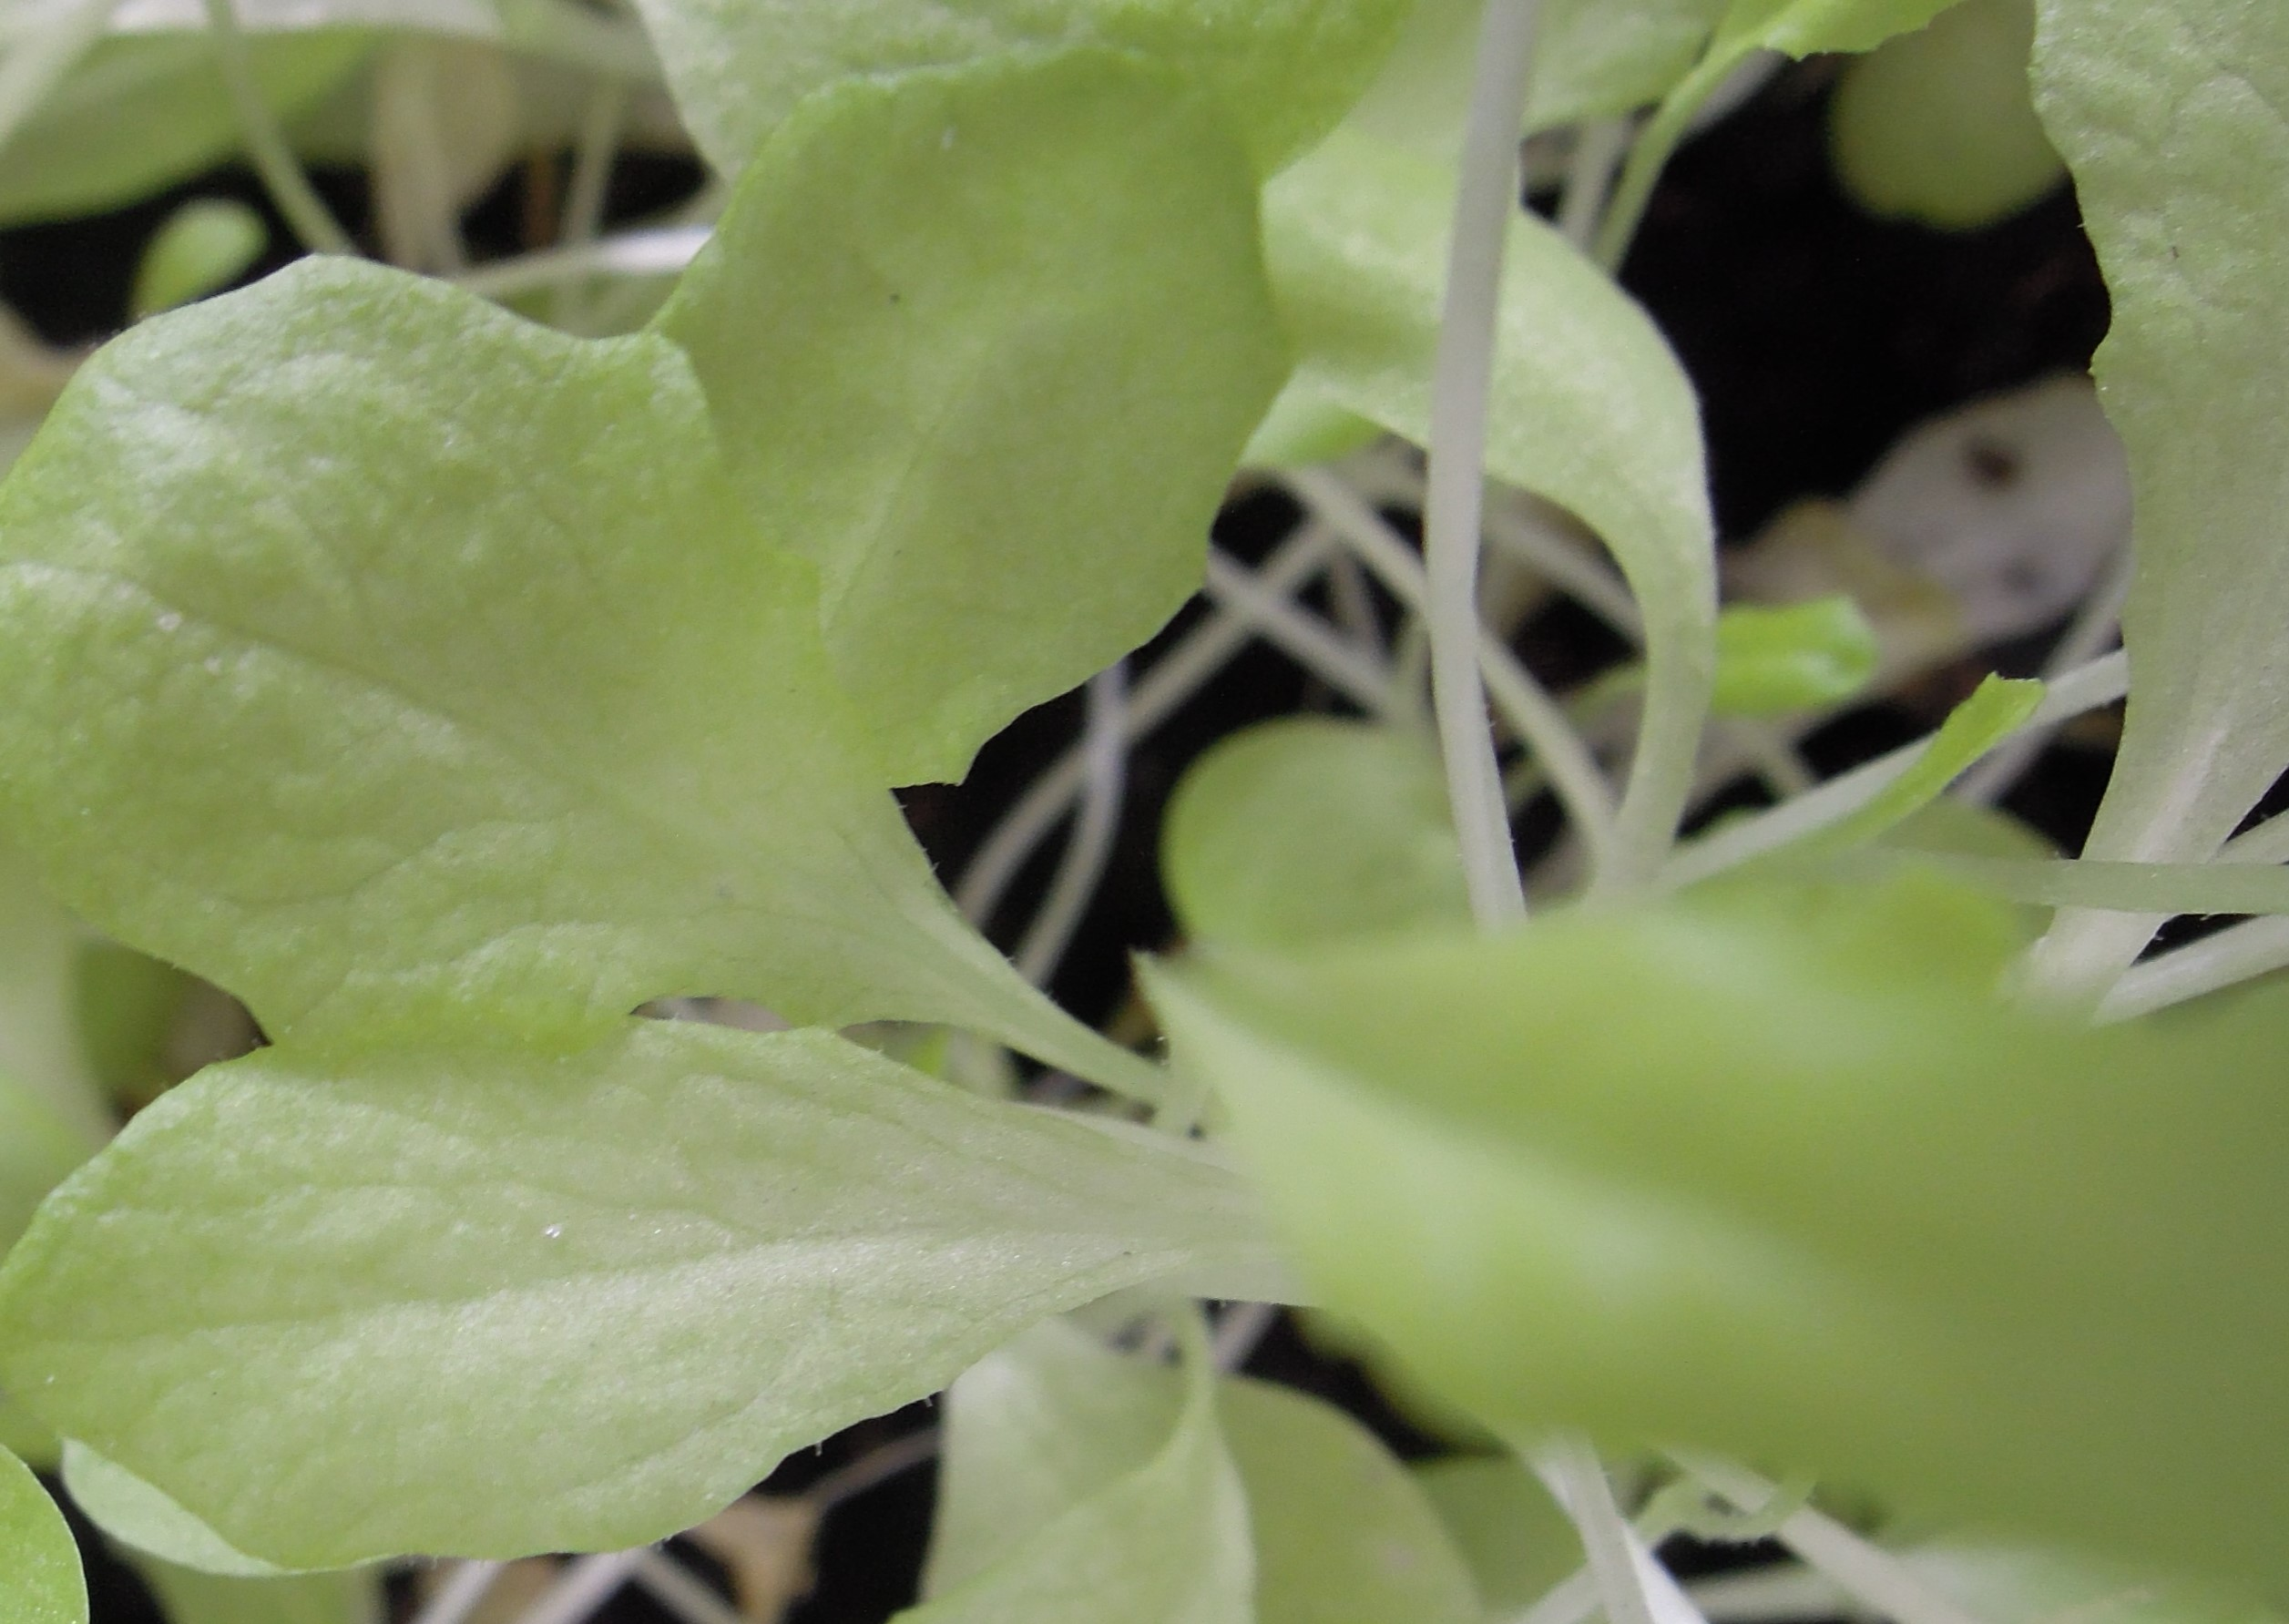weeek6: (2, 197, 1506, 1587)
